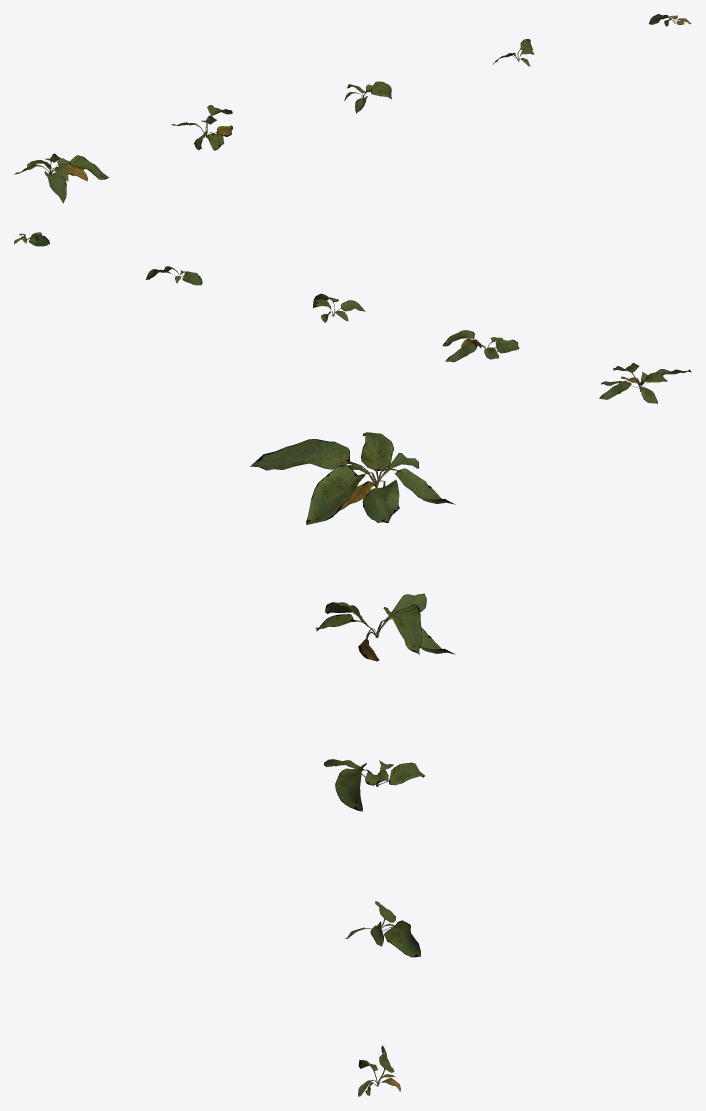
Rendered from weed_plant_02.glb.
3 views of the same model, one above another, from view 1: azimuth 30°, elevation 25°; view 2: azimuth 150°, elevation 25°; view 3: azimuth 270°, elevation 25° (orthographic). The views are drawn at different scales.
Parts seen in each view (by area): view 1: weed_plant_02_a_LOD0, weed_plant_02_b_LOD0, weed_plant_02_c_LOD0, weed_plant_02_d_LOD0; view 2: weed_plant_02_a_LOD0, weed_plant_02_b_LOD0, weed_plant_02_c_LOD0, weed_plant_02_d_LOD0, weed_plant_02_e_LOD0; view 3: weed_plant_02_a_LOD0, weed_plant_02_b_LOD0, weed_plant_02_c_LOD0, weed_plant_02_d_LOD0.
Boxes of the visible parts, x1,y1,x2,y2 form: weed_plant_02_a_LOD0: (14, 153, 109, 203); weed_plant_02_b_LOD0: (171, 105, 232, 150); weed_plant_02_c_LOD0: (344, 81, 391, 113); weed_plant_02_d_LOD0: (493, 39, 534, 66); weed_plant_02_a_LOD0: (599, 363, 691, 403); weed_plant_02_b_LOD0: (442, 330, 519, 362); weed_plant_02_c_LOD0: (313, 293, 365, 322); weed_plant_02_d_LOD0: (145, 266, 202, 285); weed_plant_02_e_LOD0: (14, 232, 49, 246); weed_plant_02_a_LOD0: (250, 432, 455, 524); weed_plant_02_b_LOD0: (315, 593, 455, 661); weed_plant_02_c_LOD0: (324, 759, 424, 811); weed_plant_02_d_LOD0: (345, 901, 420, 957).
Bounding box in the file's own units: 2.13 × 0.0747 × 0.2909.
1 material, 1 textured.
